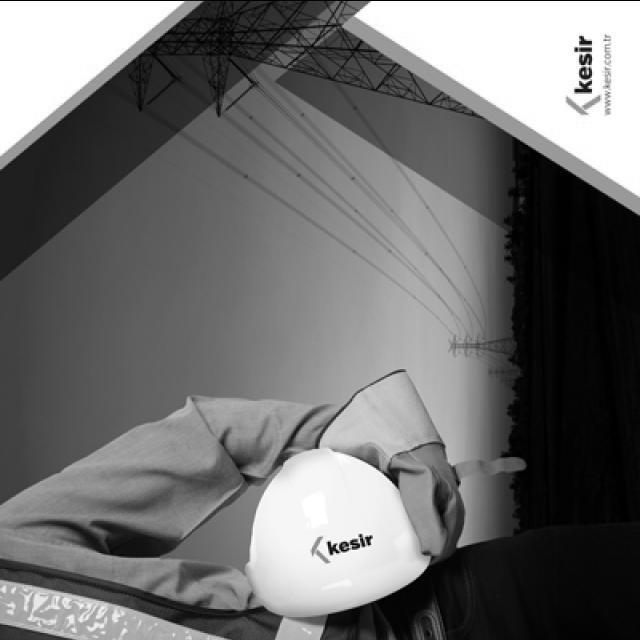safety_helmet: (246, 446, 435, 618)
